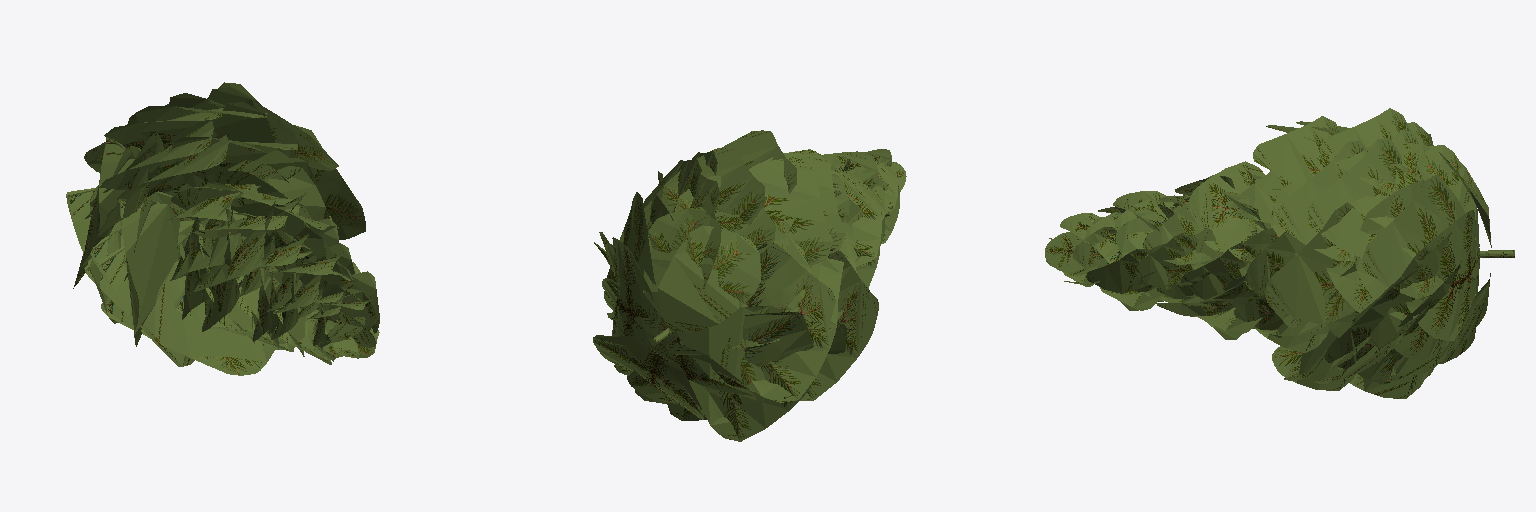
3 renders of one model, left to right at view 1: azimuth 30°, elevation 25°; view 2: azimuth 150°, elevation 25°; view 3: azimuth 270°, elevation 25°, orthographic.
Visible parts, largest first — view 1: Object.1; view 2: Object.1; view 3: Object.1.
Part boxes in pixels (x1,y1,x2,y2): Object.1: (66, 82, 379, 375); Object.1: (593, 130, 906, 441); Object.1: (1045, 108, 1514, 398).
Size of the model in its own units: 611 by 621 by 1038.
1 materials, 1 textured.